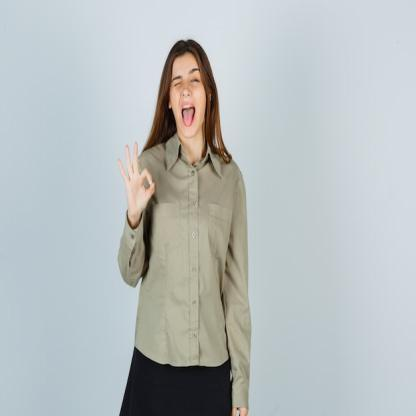ok: (113, 132, 160, 228)
